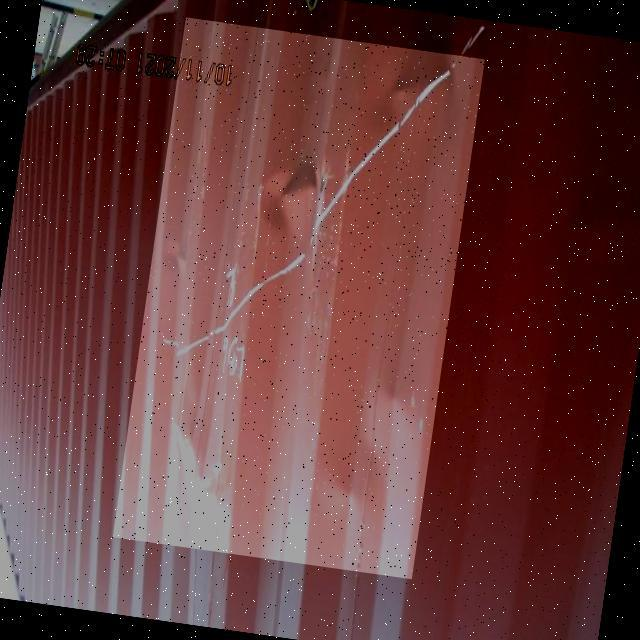Dent: (113, 18, 485, 580)
